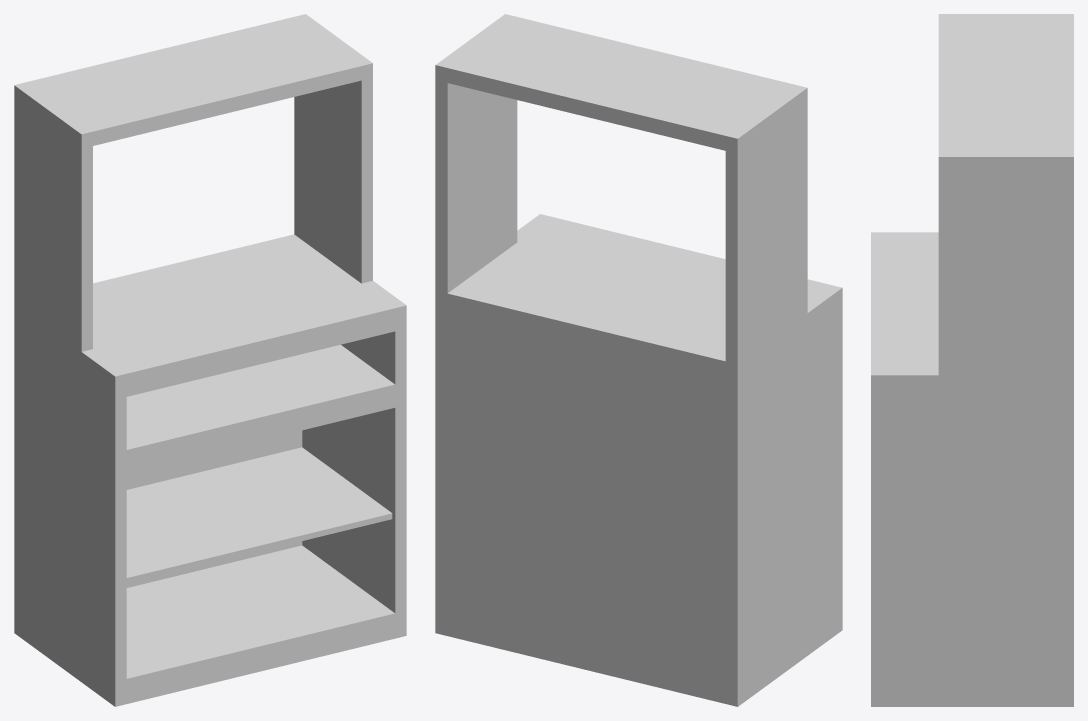
File: drawer_8.glb
The picture shows the model from 3 angles, left to right: view 1: azimuth 30°, elevation 25°; view 2: azimuth 150°, elevation 25°; view 3: azimuth 270°, elevation 25°; orthographic projection. The views are drawn at different scales.
Parts seen in each view (by area): view 1: Drawer 1 (Small); view 2: Drawer 1 (Small); view 3: Drawer 1 (Small).
Part boxes in pixels (<box>): Drawer 1 (Small): <box>14,14,406,706</box>; Drawer 1 (Small): <box>435,14,842,706</box>; Drawer 1 (Small): <box>871,14,1073,706</box>.
Bounding box in the file's own units: 1 × 1.8 × 0.5998.
Materials: 1 (1 with a texture image).
